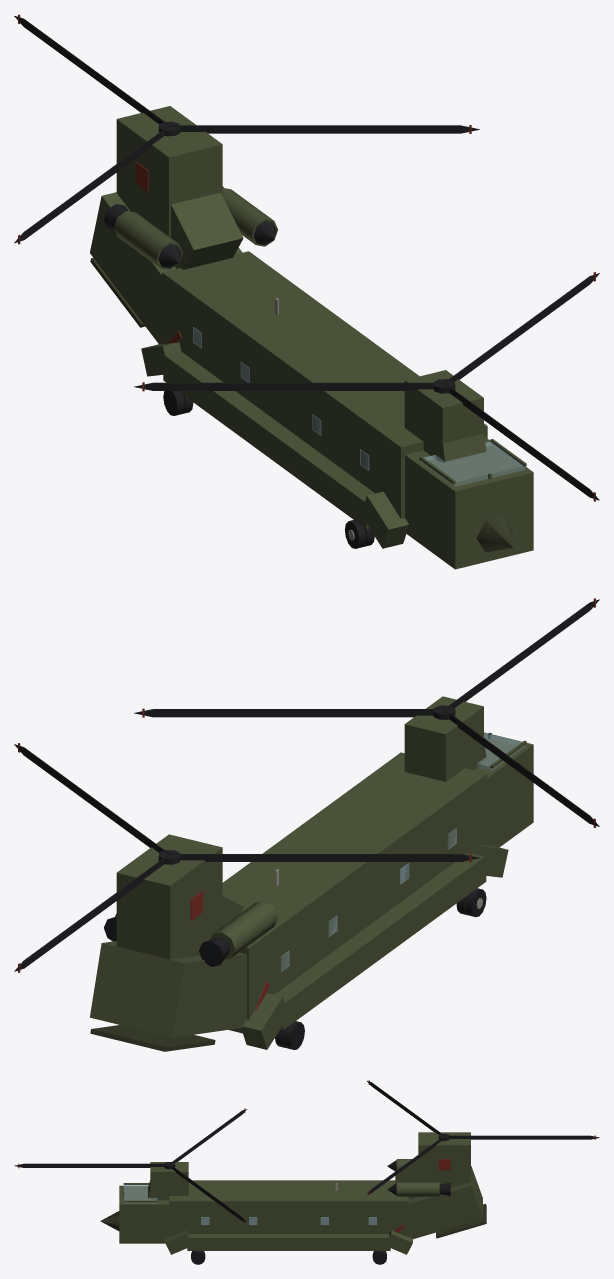
Rendered from ch-47-chinook-heavy.glb.
3 renders of one model, top to bottom at view 1: azimuth 30°, elevation 25°; view 2: azimuth 150°, elevation 25°; view 3: azimuth 270°, elevation 25°, orthographic. The views are drawn at different scales.
Visible parts, largest first — view 1: Mesh_FuselageMain, Mesh_NoseCore, Mesh_RearPylon, Mesh_SponsonL, Mesh_TailRamp, Mesh_RearPylonSlope, Mesh_FrontPylon, Mesh_BladeF_2, Mesh_BladeR_0, Mesh_CockpitGlass, Mesh_EngineL, Mesh_FrontPylonInfill (+8 smaller); view 2: Mesh_FuselageMain, Mesh_TailRamp, Mesh_RearPylon, Mesh_SponsonL, Mesh_FrontPylon, Mesh_NoseCore, Mesh_BladeF_1, Mesh_BladeR_2, Mesh_EngineL, Mesh_SponsonL_Back, Mesh_CargoRamp, Mesh_BladeF_2 (+6 smaller); view 3: Mesh_FuselageMain, Mesh_SponsonR, Mesh_TailRamp, Mesh_NoseCore, Mesh_RearPylon, Mesh_FrontPylon, Mesh_BladeF_0, Mesh_BladeR_1, Mesh_EngineR, Mesh_CockpitGlass, Mesh_SponsonR_Front, Mesh_SponsonR_Back (+6 smaller).
Boxes of the visible parts, box(x1,y1,x2,y2) form: Mesh_FuselageMain: box(162, 251, 487, 518); Mesh_NoseCore: box(405, 437, 533, 569); Mesh_RearPylon: box(116, 106, 222, 237); Mesh_SponsonL: box(163, 351, 374, 528); Mesh_TailRamp: box(90, 192, 242, 343); Mesh_RearPylonSlope: box(171, 192, 243, 269); Mesh_FrontPylon: box(404, 370, 483, 459); Mesh_BladeF_2: box(134, 382, 443, 390); Mesh_BladeR_0: box(170, 125, 479, 133); Mesh_CockpitGlass: box(421, 441, 524, 486); Mesh_EngineL: box(113, 211, 182, 269); Mesh_FrontPylonInfill: box(411, 410, 486, 462); Mesh_FuselageMain: box(222, 752, 487, 1033); Mesh_TailRamp: box(90, 941, 246, 1037); Mesh_RearPylon: box(116, 834, 222, 959); Mesh_SponsonL: box(275, 852, 486, 1030); Mesh_FrontPylon: box(404, 696, 483, 781); Mesh_NoseCore: box(474, 732, 533, 847); Mesh_BladeF_1: box(134, 709, 443, 717); Mesh_BladeR_2: box(170, 854, 479, 861); Mesh_EngineL: box(210, 901, 277, 959); Mesh_SponsonL_Back: box(241, 993, 288, 1049); Mesh_CargoRamp: box(90, 1025, 215, 1051); Mesh_BladeF_2: box(444, 709, 599, 826); Mesh_FuselageMain: box(169, 1180, 408, 1236); Mesh_SponsonR: box(187, 1234, 390, 1250); Mesh_TailRamp: box(408, 1166, 482, 1239); Mesh_NoseCore: box(119, 1185, 169, 1243); Mesh_RearPylon: box(418, 1132, 470, 1197); Mesh_FrontPylon: box(150, 1162, 188, 1197); Mesh_BladeF_0: box(14, 1163, 168, 1167); Mesh_BladeR_1: box(445, 1135, 599, 1139); Mesh_EngineR: box(396, 1182, 439, 1196); Mesh_CockpitGlass: box(124, 1185, 157, 1203); Mesh_SponsonR_Front: box(165, 1230, 192, 1254); Mesh_SponsonR_Back: box(385, 1230, 412, 1254).
Bounding box in the file's own units: 11.27 × 5.25 × 24.5.
Materials: 2 (2 with a texture image).
